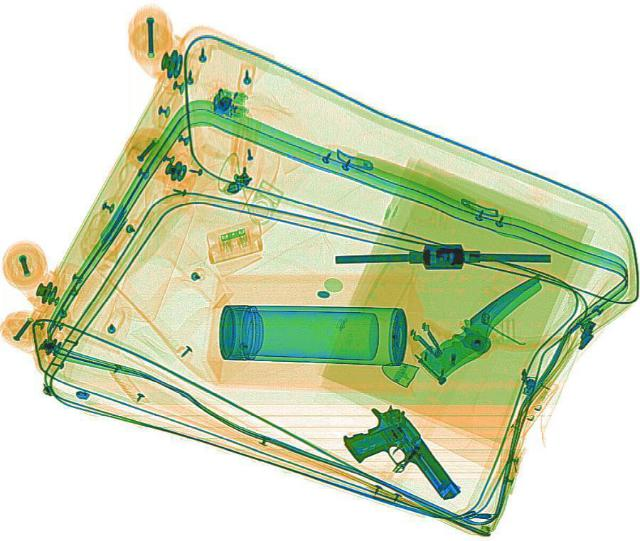Gun: (330, 396, 462, 518)
